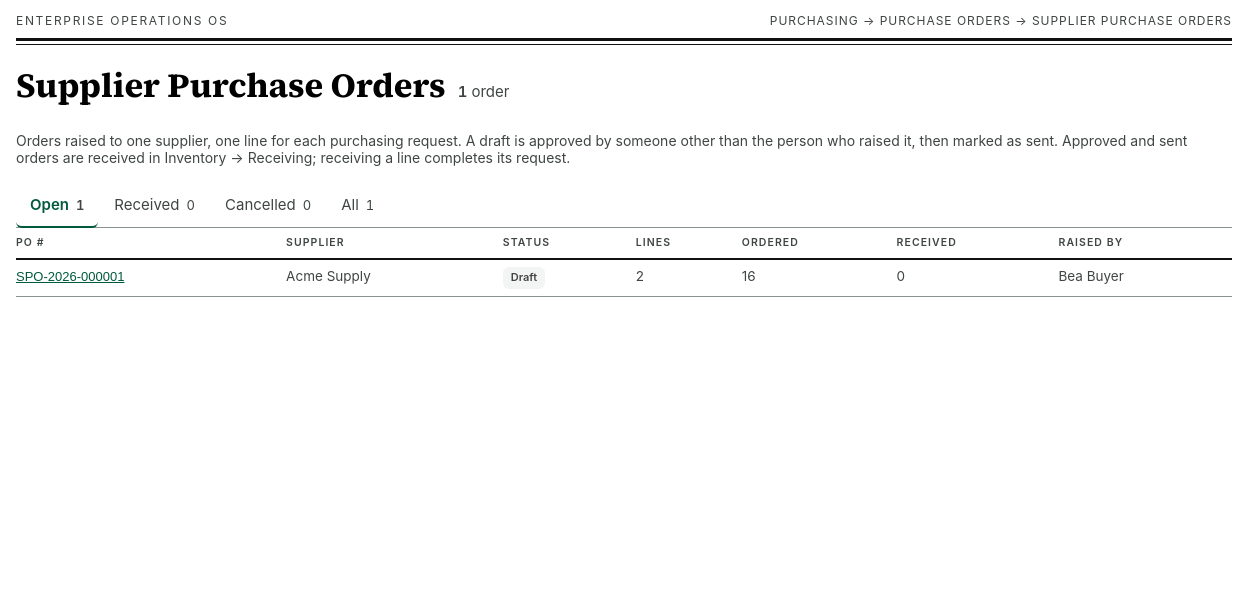
controls are offered only to capability holders, narrowed by the server's own flags › a refusal is shown in the server's own words, and a retry after an outage reuses the SAME key
This screenshot has width=1249, height=605.
Click the button "SPO-2026-000001": [70, 277] box [16,269,124,284]
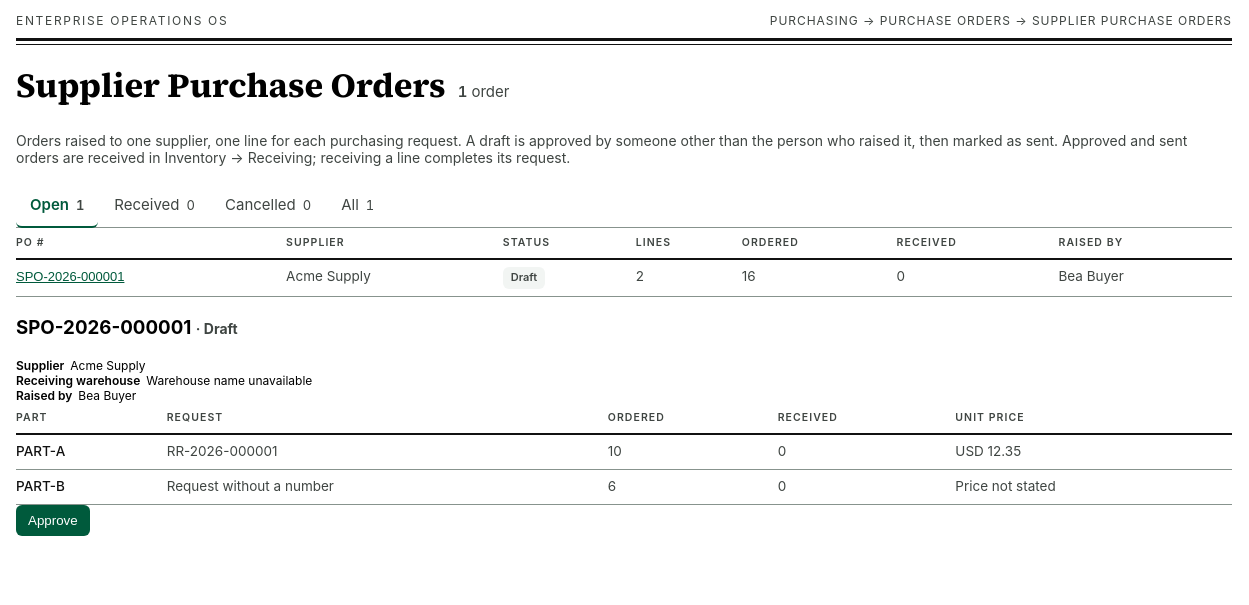
Expected: the element named "Order SPO-2026-000001" is shown, [16,297,1232,536]
Click the button "Approve": [53, 520] box [16,505,90,536]
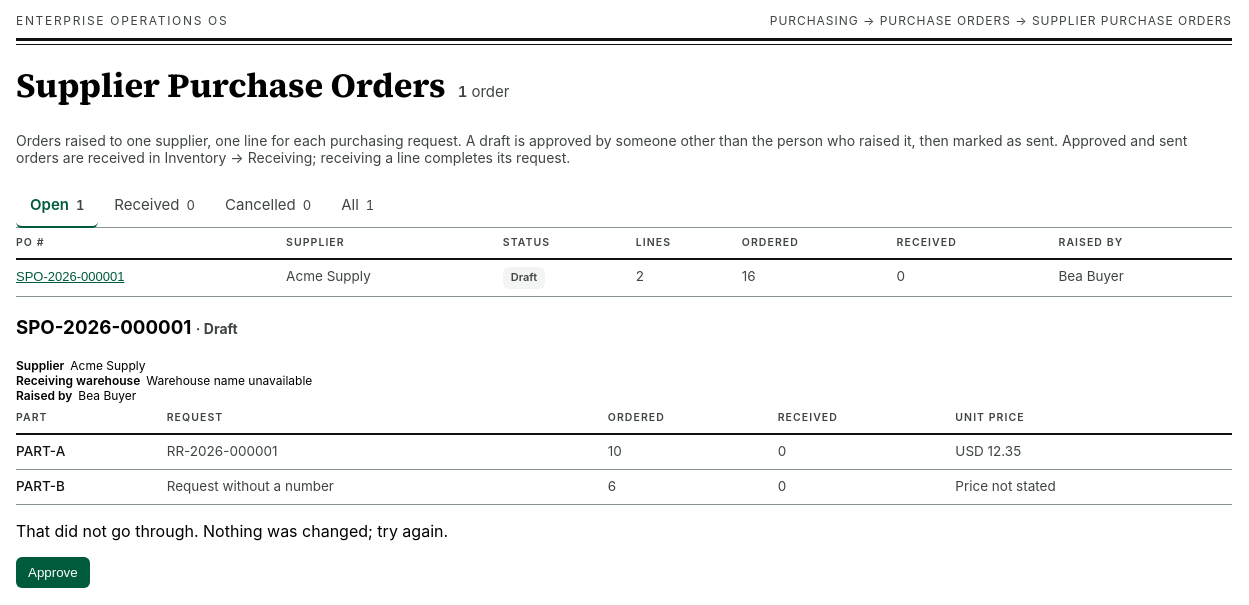
Expected: the text "That did not go through. Nothing was changed; try again." is shown, [16,521,448,541]
Click the button "Approve": [53, 572] box [16,557,90,588]
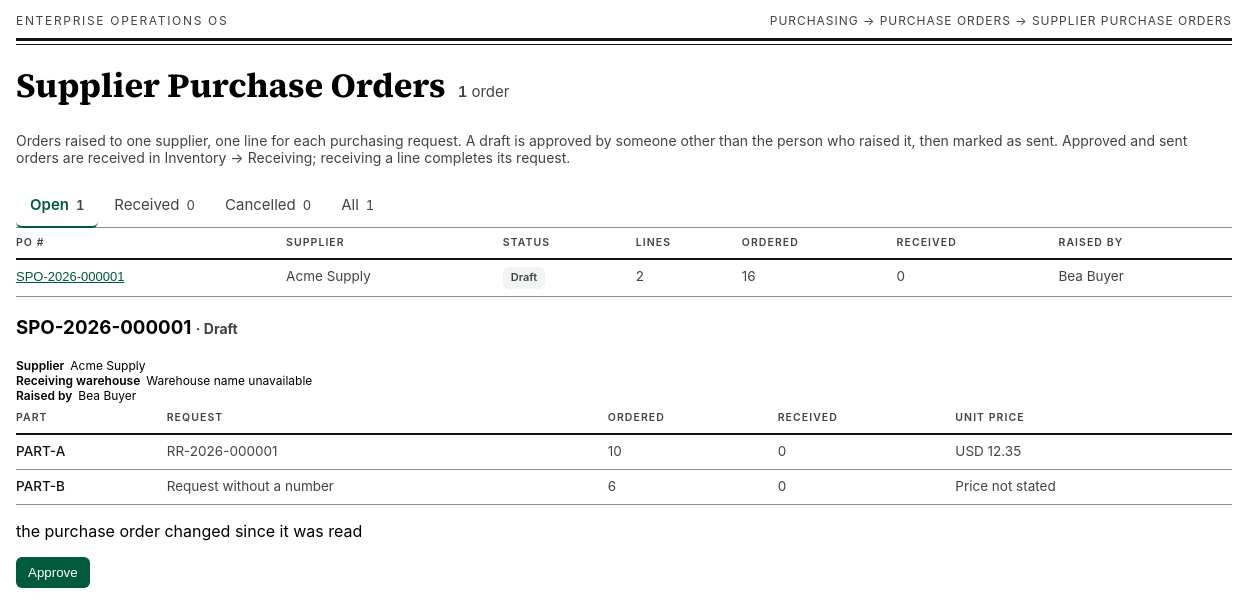
Expected: the text "the purchase order changed since it was read" is shown, [16,521,362,541]
